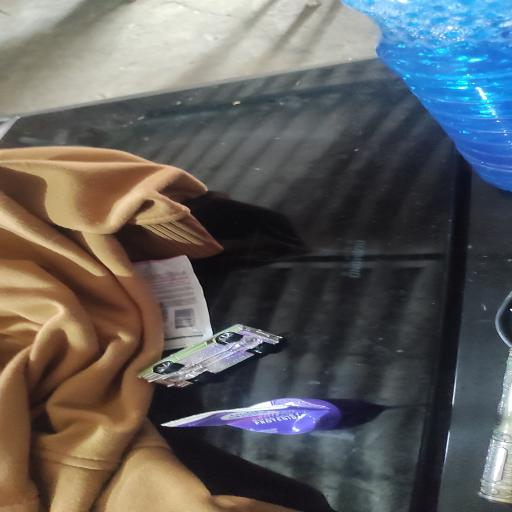Carrito: (138, 324, 281, 388)
